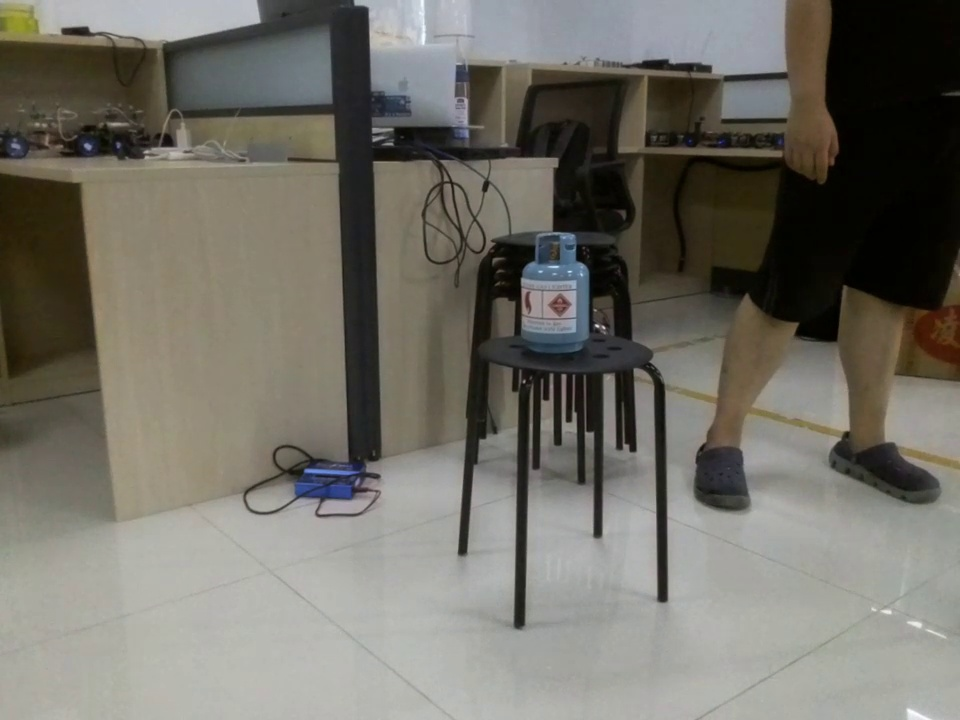gas tank: (518, 230, 600, 358)
